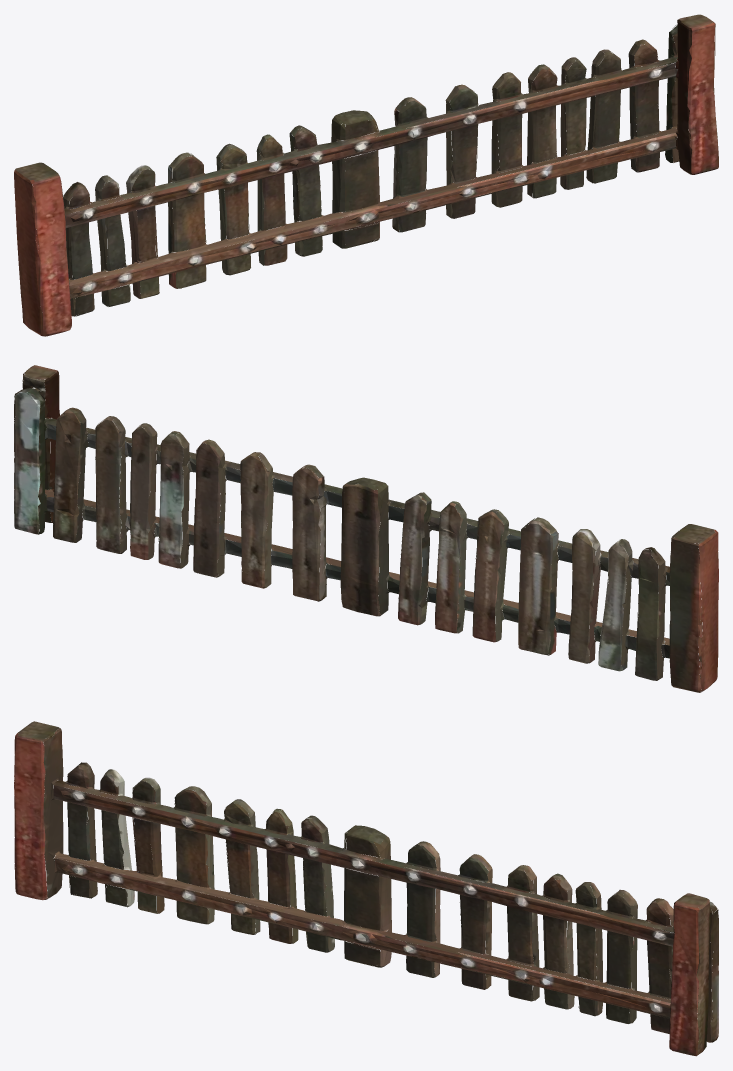
The model's file is picket-fence-run.glb.
The picture shows the model from 3 angles, top to bottom: view 1: azimuth 30°, elevation 25°; view 2: azimuth 150°, elevation 25°; view 3: azimuth 330°, elevation 25°; orthographic projection.
Parts seen in each view (by area): view 1: tmpg124n9bm.ply; view 2: tmpg124n9bm.ply; view 3: tmpg124n9bm.ply.
Part boxes in pixels (x1=…): tmpg124n9bm.ply: x1=14, y1=14, x2=718, y2=336; tmpg124n9bm.ply: x1=14, y1=365, x2=718, y2=692; tmpg124n9bm.ply: x1=14, y1=721, x2=718, y2=1056.
Size of the model in its own units: 6 by 1.3 by 0.3999.
Materials: 1 (1 with a texture image).
